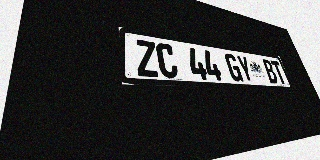4: (186, 47, 208, 80), (201, 49, 223, 81)
B: (261, 59, 279, 84)
C: (155, 42, 179, 78)
G: (224, 53, 244, 82)
T: (270, 60, 287, 84)
Y: (235, 55, 255, 82)
Z: (134, 39, 159, 77)
